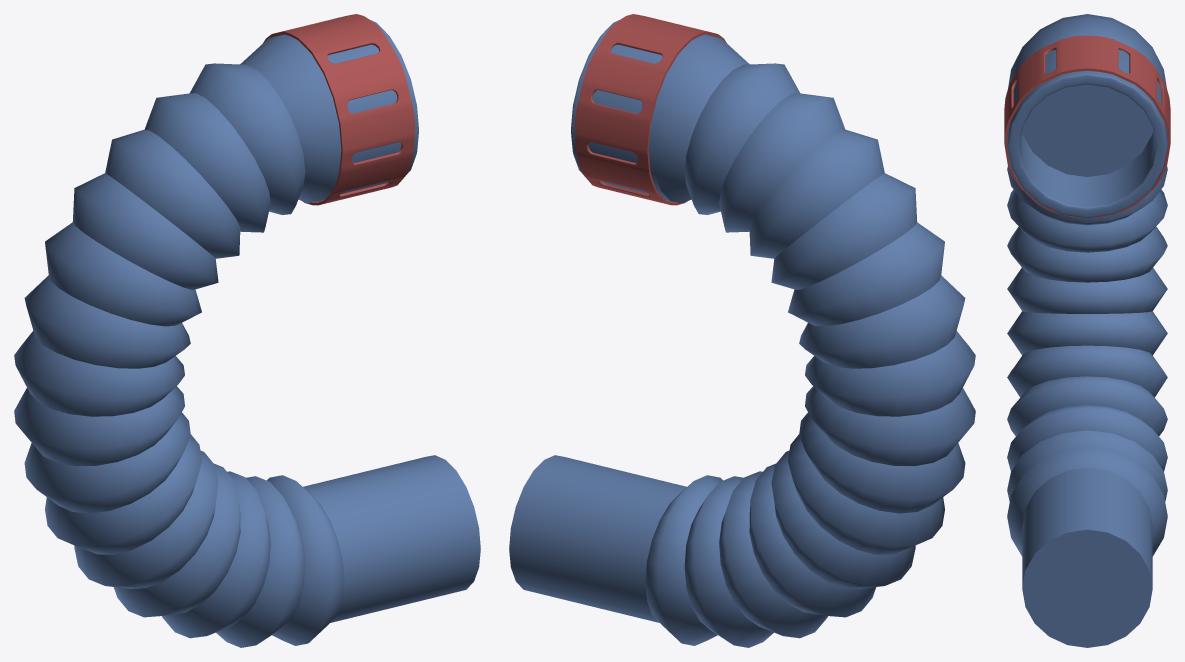
The model's file is Pipe.fbx.
The picture shows the model from 3 angles, left to right: view 1: azimuth 30°, elevation 25°; view 2: azimuth 150°, elevation 25°; view 3: azimuth 270°, elevation 25°; orthographic projection. The views are drawn at different scales.
Visible parts, largest first — view 1: Pipe; view 2: Pipe; view 3: Pipe.
Boxes of the visible parts, left/top/right/bottom form: Pipe: left=14, top=14, right=480, bottom=647; Pipe: left=509, top=14, right=975, bottom=647; Pipe: left=1004, top=14, right=1170, bottom=647.
Size of the model in its own units: 91.27 by 124 by 33.57.
